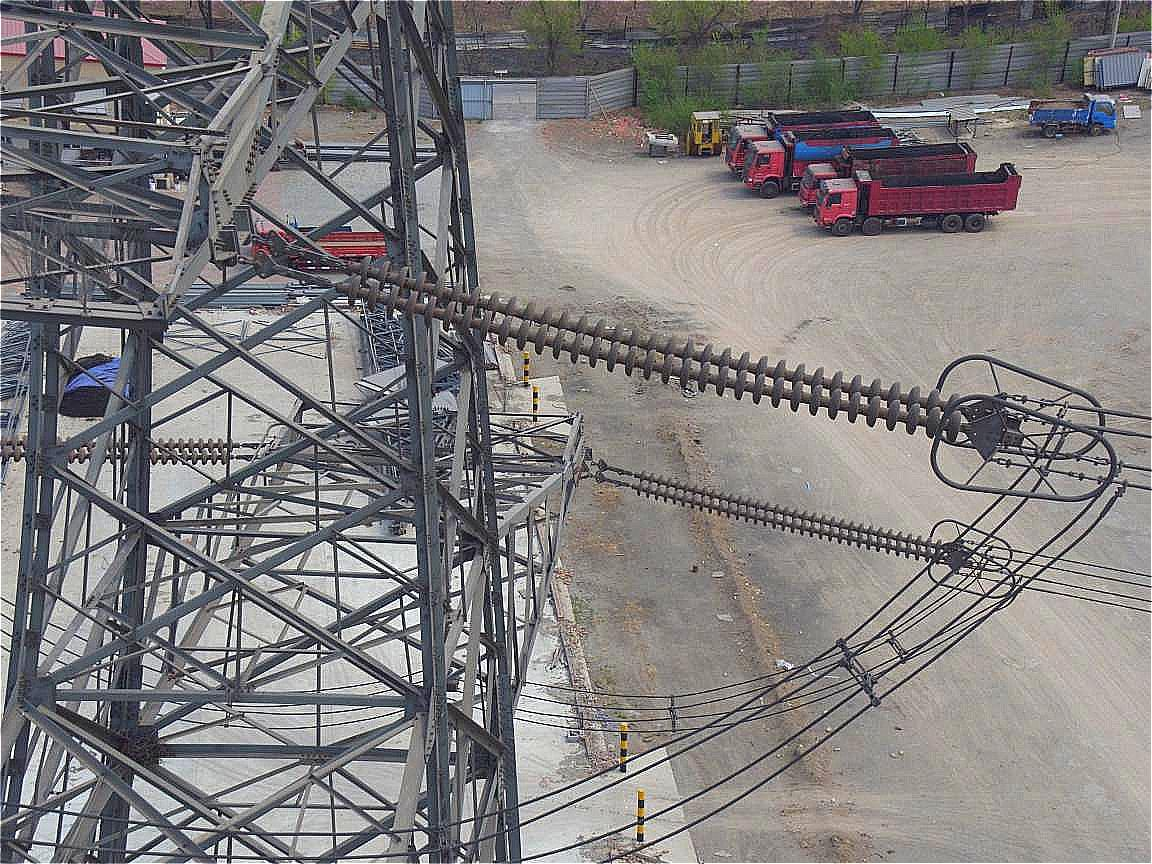insultor1: (323, 244, 996, 464), (623, 465, 976, 579)
